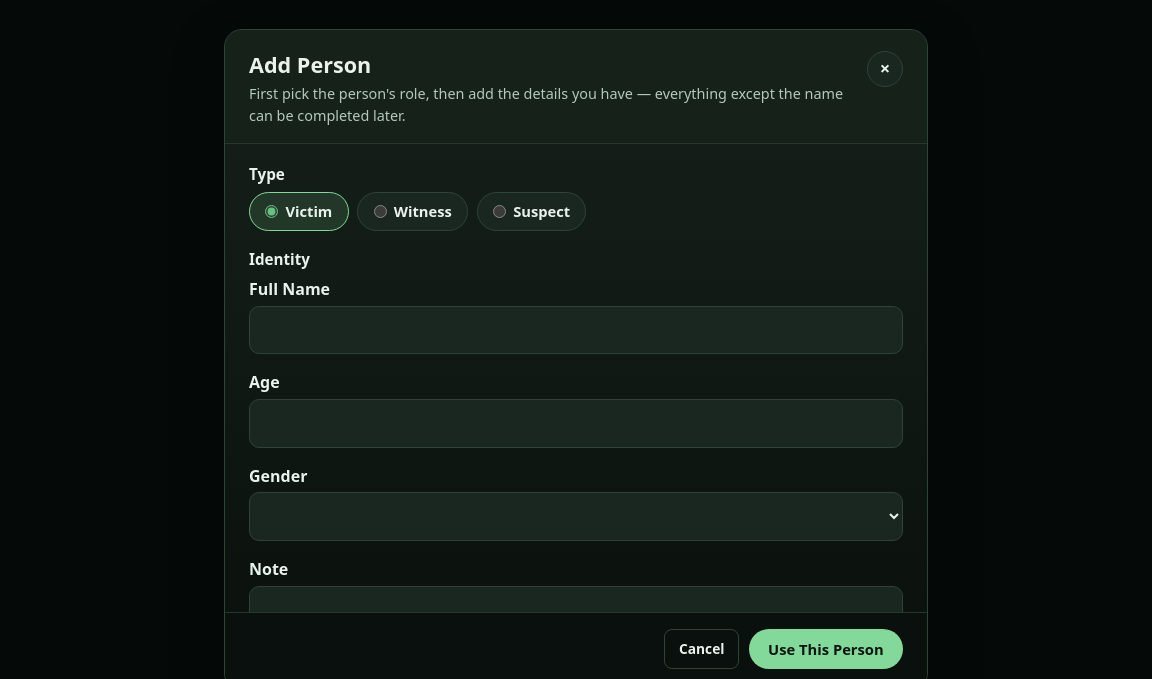
PersonEditor › Related Victim and Relationship only visible for Witness/Suspect
The width and height of the screenshot is (1152, 679).
Check: the field labelled "Related Victim" is not shown
Click the radio button labelled "Witness". click: (380, 211)
box: x1=374 y1=205 x2=386 y2=218
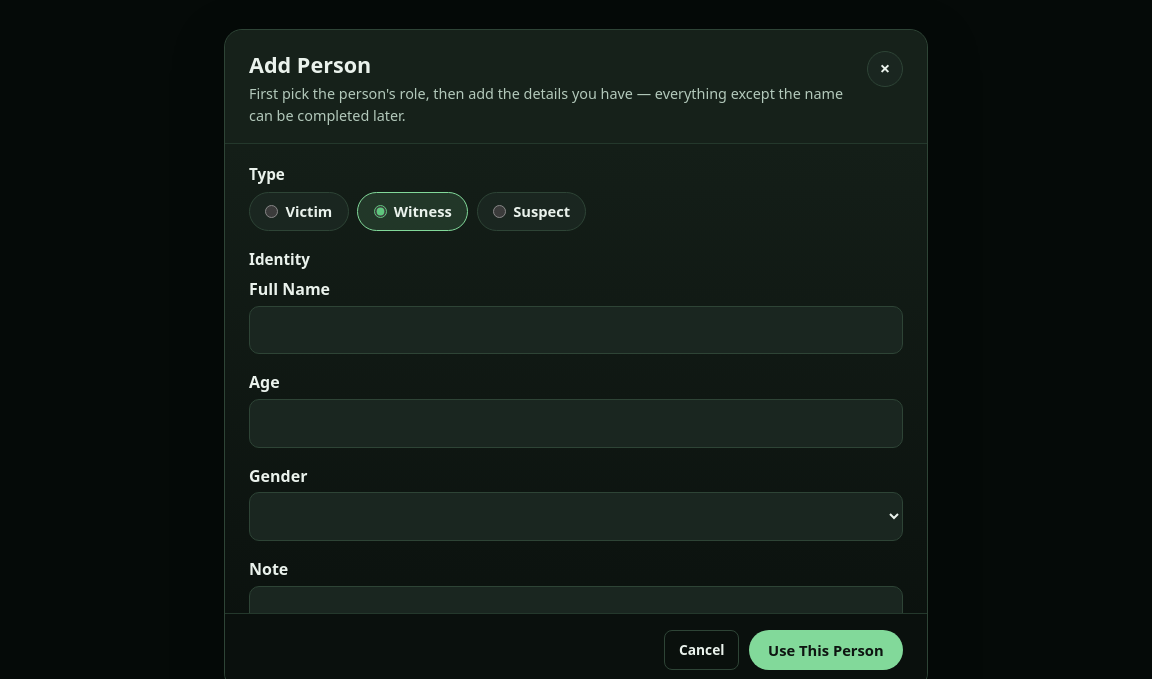
Click the radio button labelled "Suspect". click: (500, 211)
box: x1=493 y1=205 x2=506 y2=218
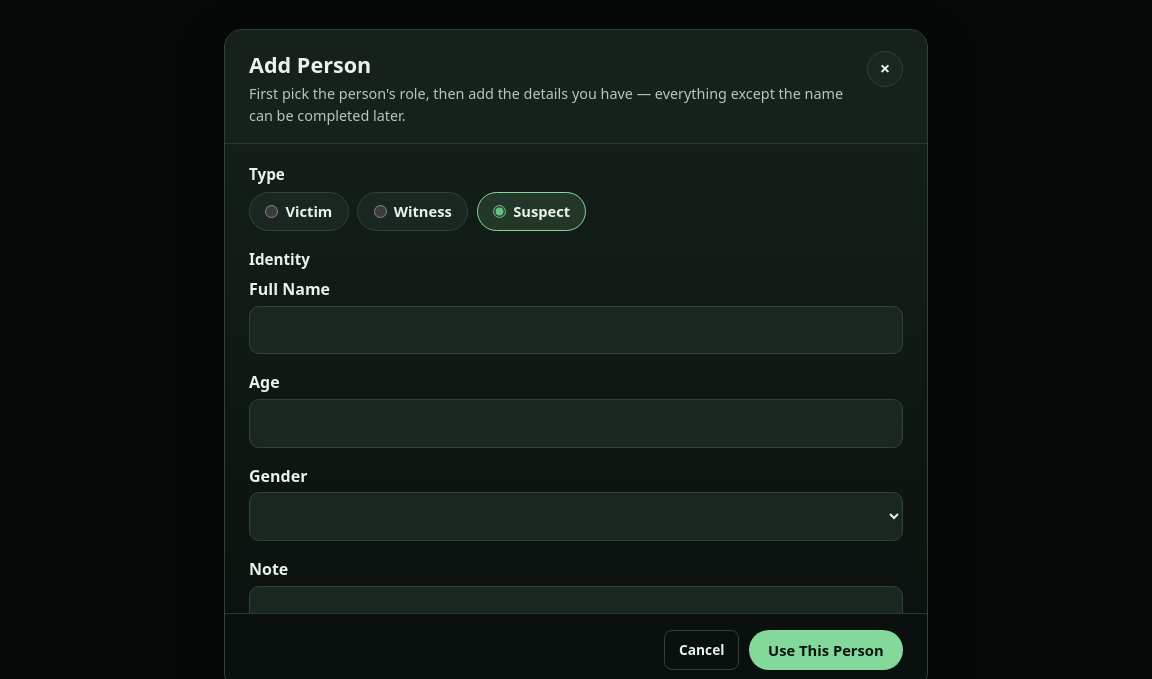
Click the radio button labelled "Victim". click: (272, 211)
box: x1=265 y1=205 x2=278 y2=218
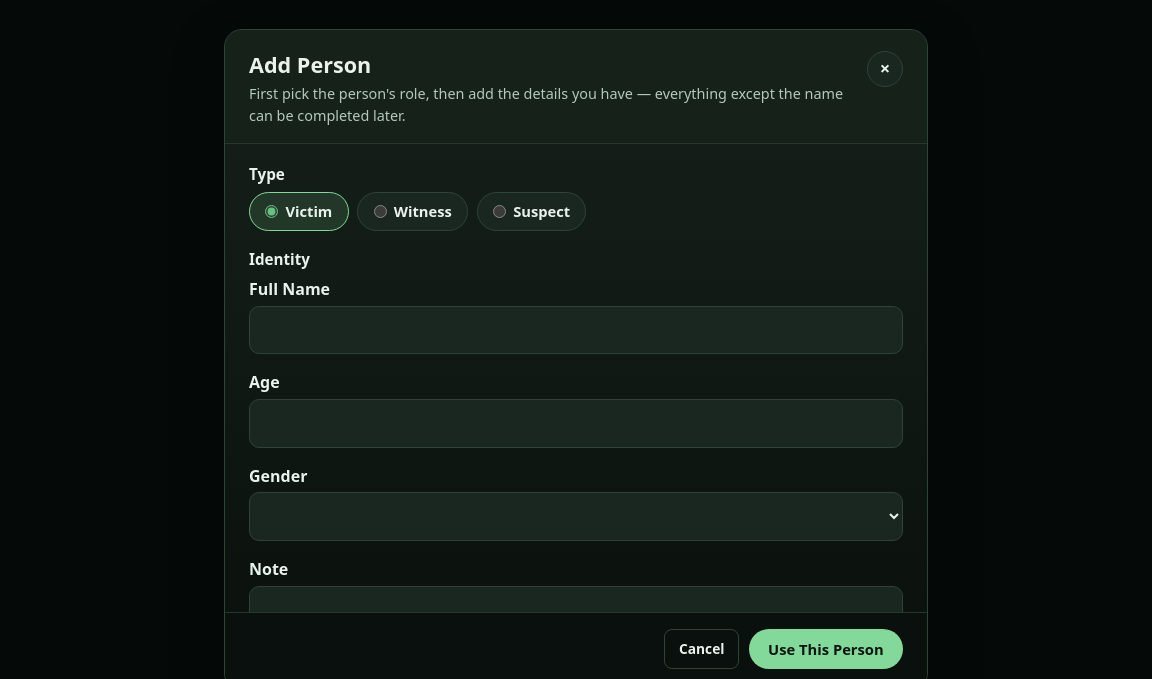
Check: the label labelled "Related Victim" is gone
